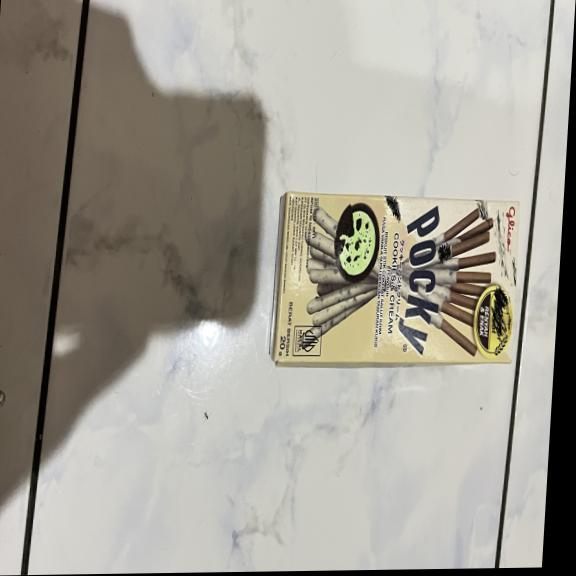Kertas: (268, 190, 520, 372)
